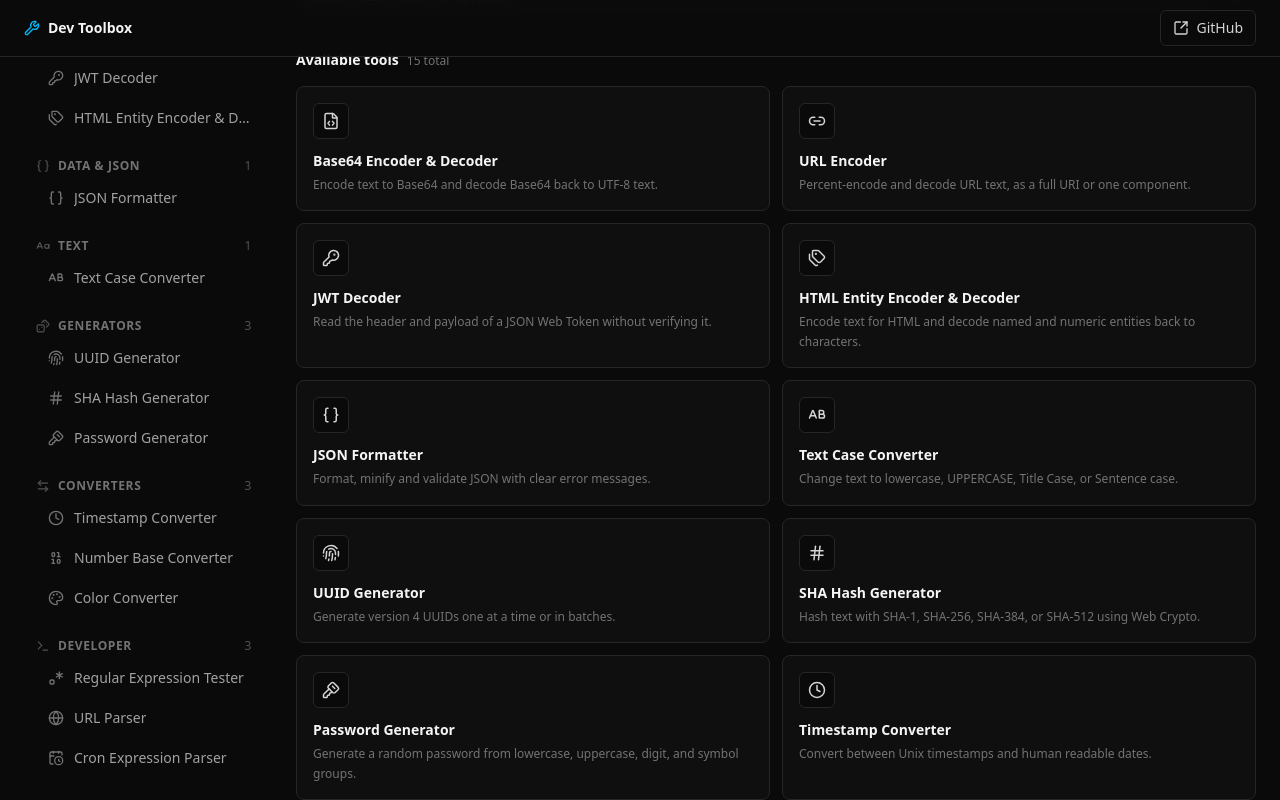
Test case: app shell › links categories from the home page and renders a category page
This screenshot has width=1280, height=800.
(page scrolled)
Click the link "Developer 3". click: (95, 646)
box: [24, 632, 264, 660]
(page scrolled)
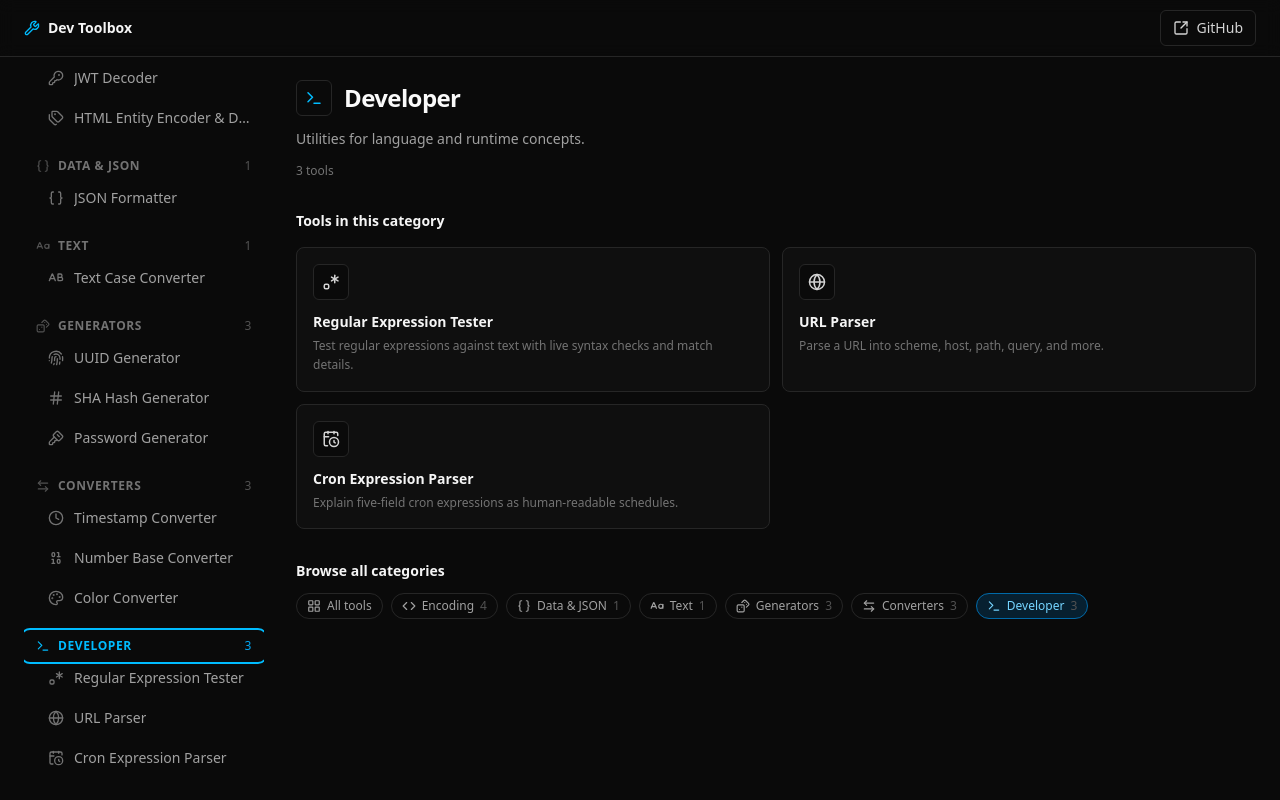
Check: the heading "Regular Expression Tester" is shown, box [313, 312, 493, 331]
Check: the heading "Developer" is shown, box [344, 82, 460, 114]
Check: the text "3 tools" is shown, box [296, 162, 334, 179]
